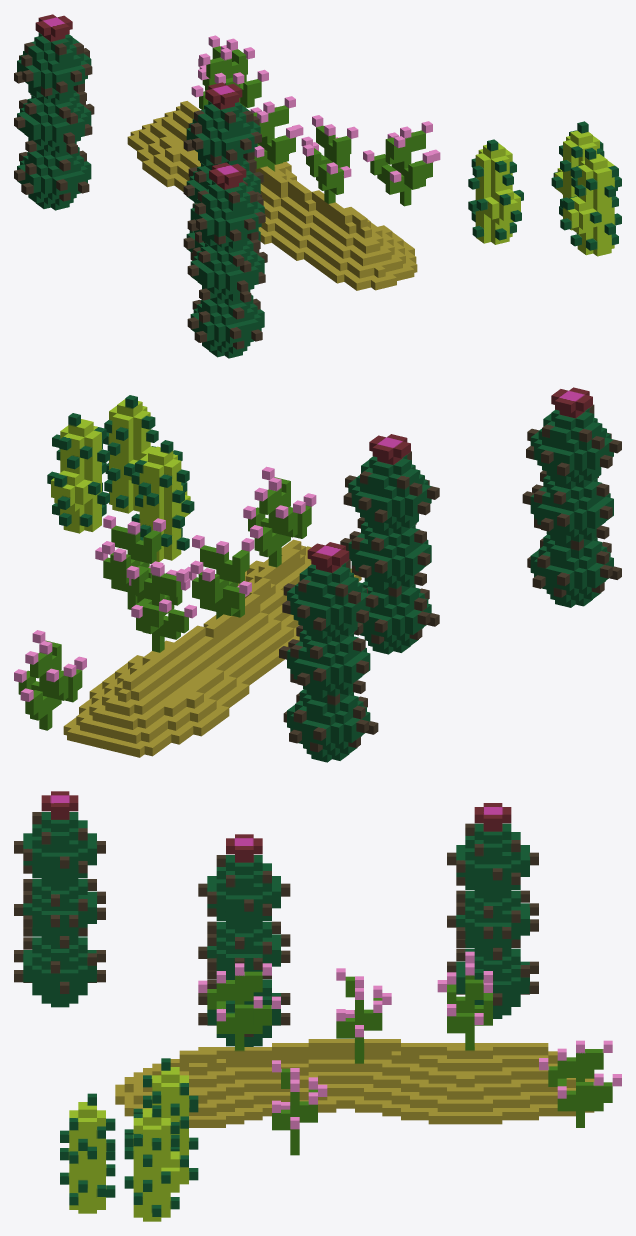
The model's file is cacti_3_overtile.glb.
3 views of the same model, one above another, from view 1: azimuth 30°, elevation 25°; view 2: azimuth 150°, elevation 25°; view 3: azimuth 270°, elevation 25° (orthographic). The views are drawn at different scales.
Visible parts, largest first — view 1: cacti_3_overtile; view 2: cacti_3_overtile; view 3: cacti_3_overtile.
Part boxes in pixels (x1,y1,x2,y2): cacti_3_overtile: [14, 14, 621, 358]; cacti_3_overtile: [14, 387, 621, 762]; cacti_3_overtile: [14, 791, 621, 1221].
Bounding box in the file's own units: 6.3 × 2.4 × 6.6.
1 material, 1 textured.
